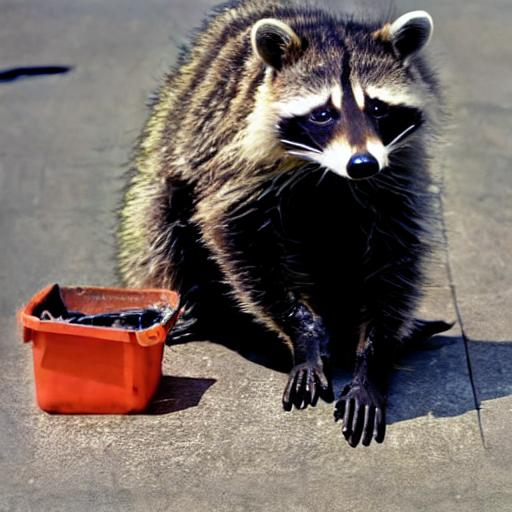raccoon: (111, 0, 460, 378)
